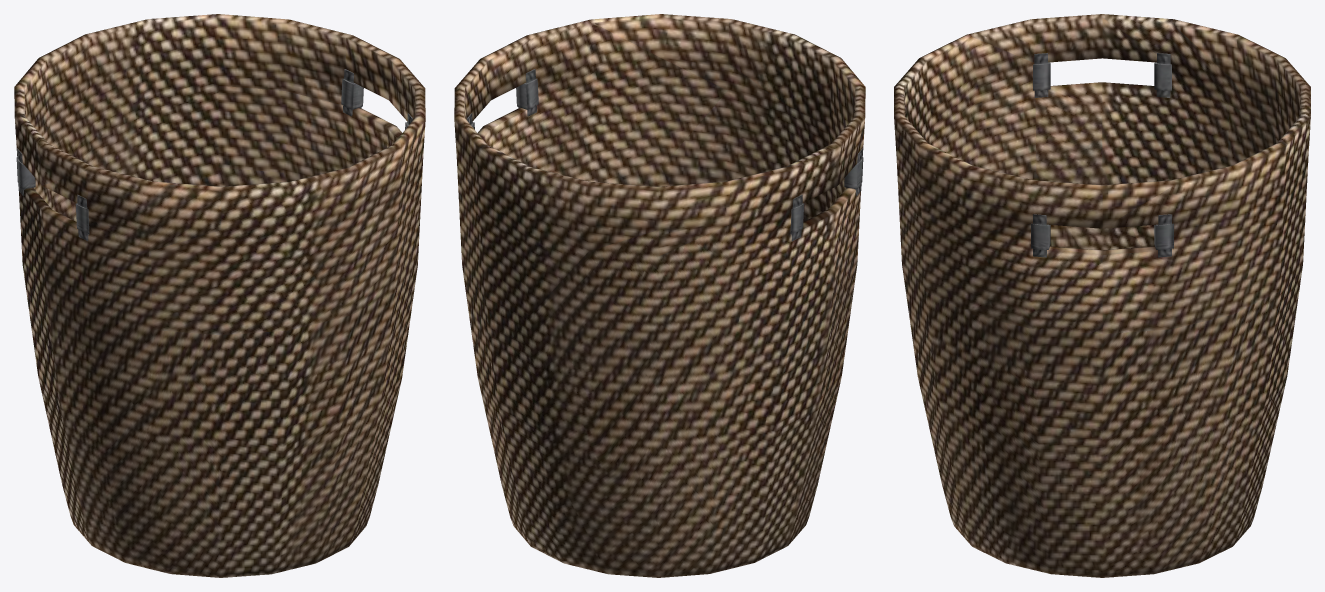
File: 18 - RÅGKORN - 花盆，室內戶外用 深灰色米色，24 公分 IKEA 線上購物.glb
3 views of the same model, side by side, from view 1: azimuth 30°, elevation 25°; view 2: azimuth 150°, elevation 25°; view 3: azimuth 270°, elevation 25° (orthographic).
Visible parts, largest first — view 1: Mesh_0; view 2: Mesh_0; view 3: Mesh_0.
Boxes of the visible parts, left/top/right/bottom form: Mesh_0: left=14, top=14, right=425, bottom=577; Mesh_0: left=454, top=14, right=865, bottom=577; Mesh_0: left=894, top=14, right=1310, bottom=577.
Size of the model in its own units: 0.28 by 0.31 by 0.28.
Materials: 1 (1 with a texture image).
